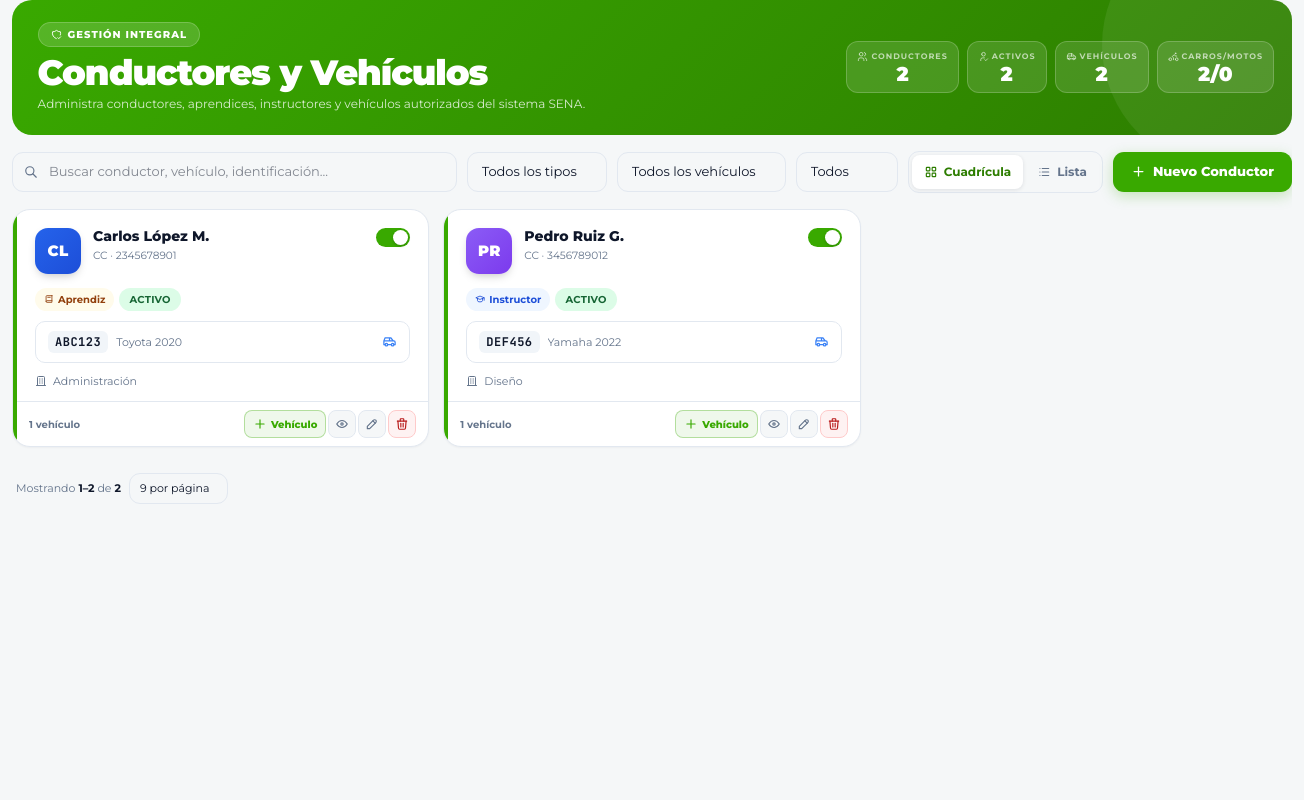
Scenario: features/conductores › filtra la lista al escribir en el buscador
Expected: the text "Carlos López M." is shown, x1=93 y1=227 x2=209 y2=245
Type "Pedro" into the field named "Buscar conductores" at (234, 172), box x1=12 y1=152 x2=457 y2=192
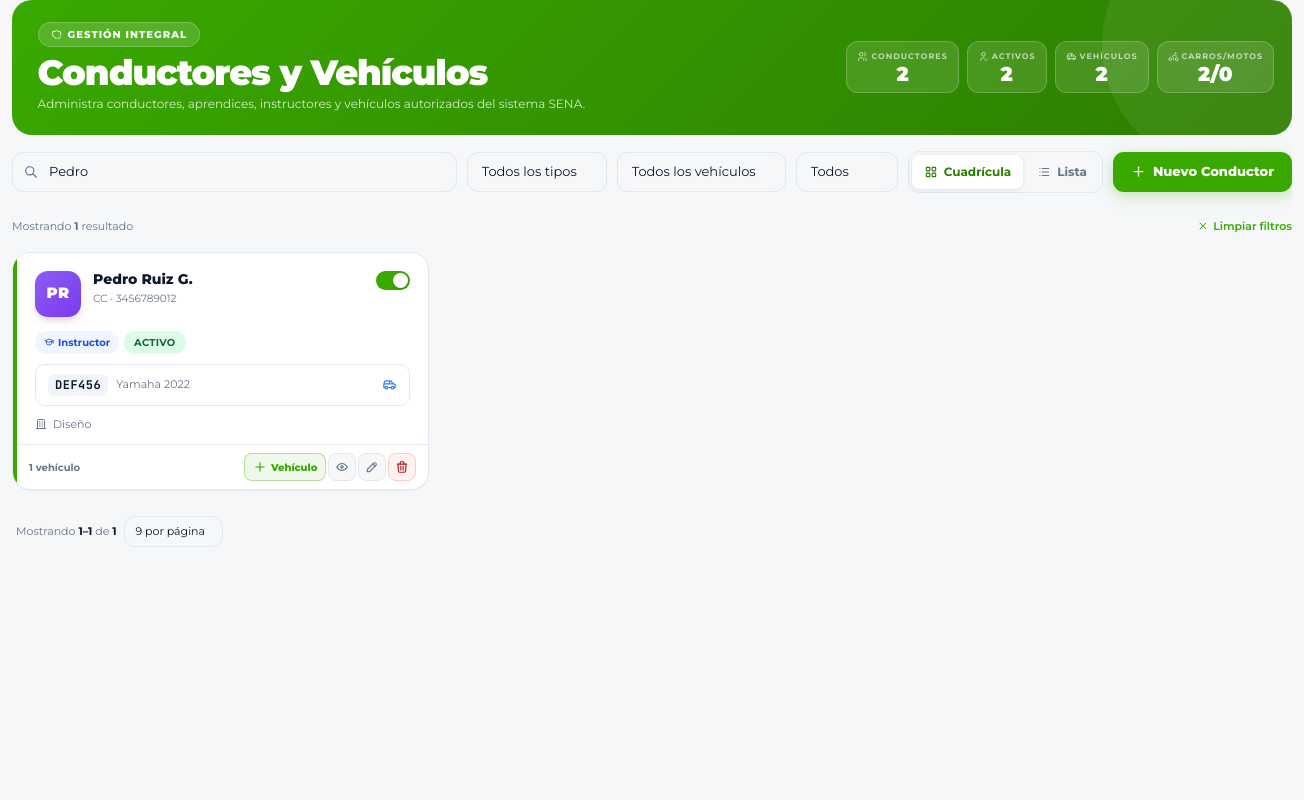
Expected: the text "Pedro Ruiz G." is shown, x1=93 y1=270 x2=193 y2=288
Expected: the text "Carlos López M." is gone
